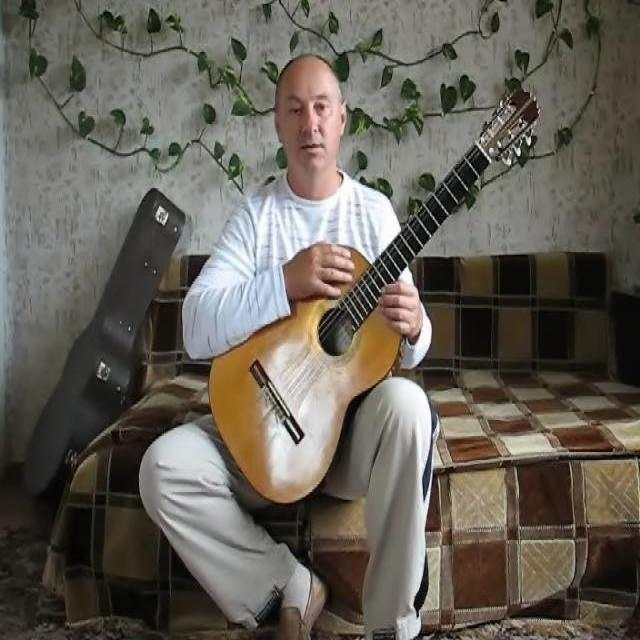guitar: (208, 86, 542, 507)
